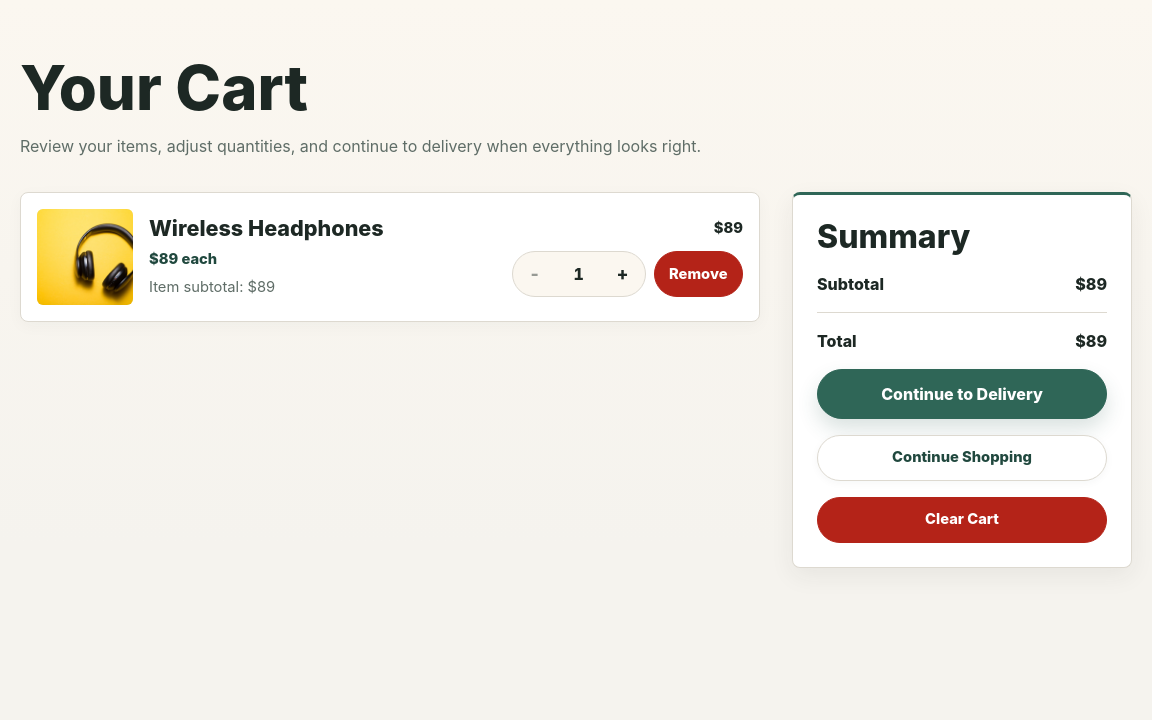
CartPageContent › renders cart items, updates quantity, and removes items
The width and height of the screenshot is (1152, 720).
Expected: the heading "Your Cart" is shown, [20,50,308,125]
Expected: the text "$89" in the row of "Wireless Headphones" is shown, [714,217,743,239]
Click the button named "increase quantity" at [623, 274], box [601,252,645,296]
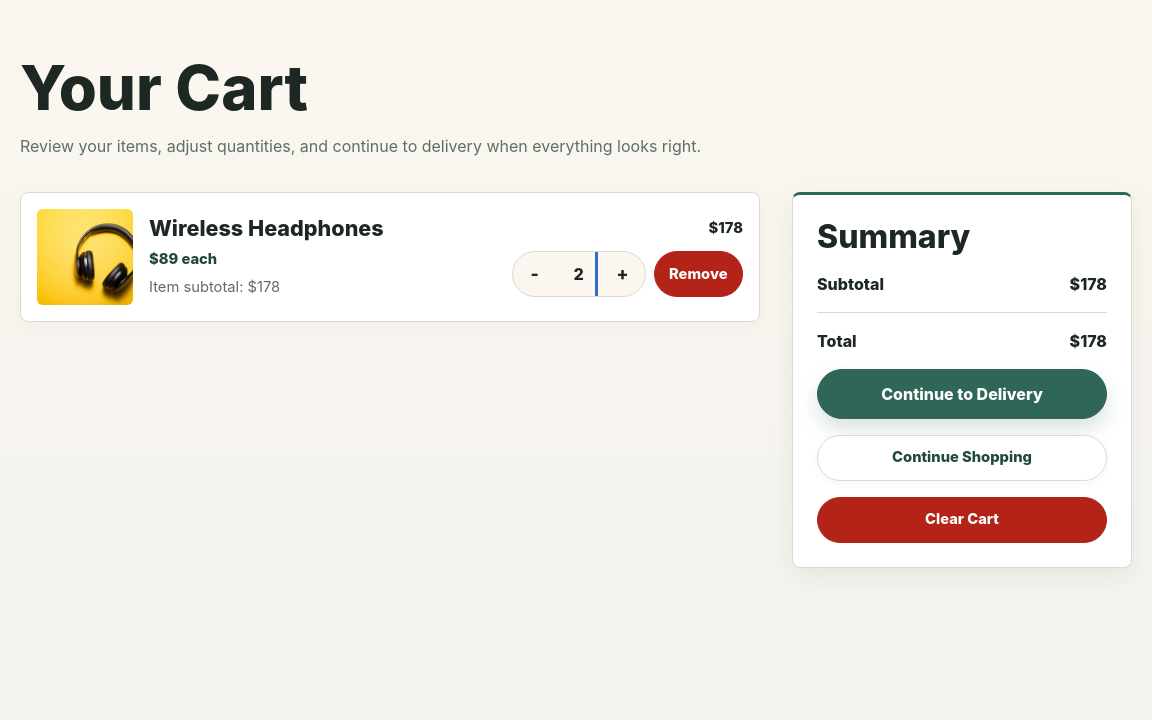
Now the text "2" is shown, box [574,264,584,284]
Now the text "$178" in the row of "Wireless Headphones" is shown, box [709,217,743,239]
Click the button named "decrease quantity" at [535, 274], box [513,252,557,296]
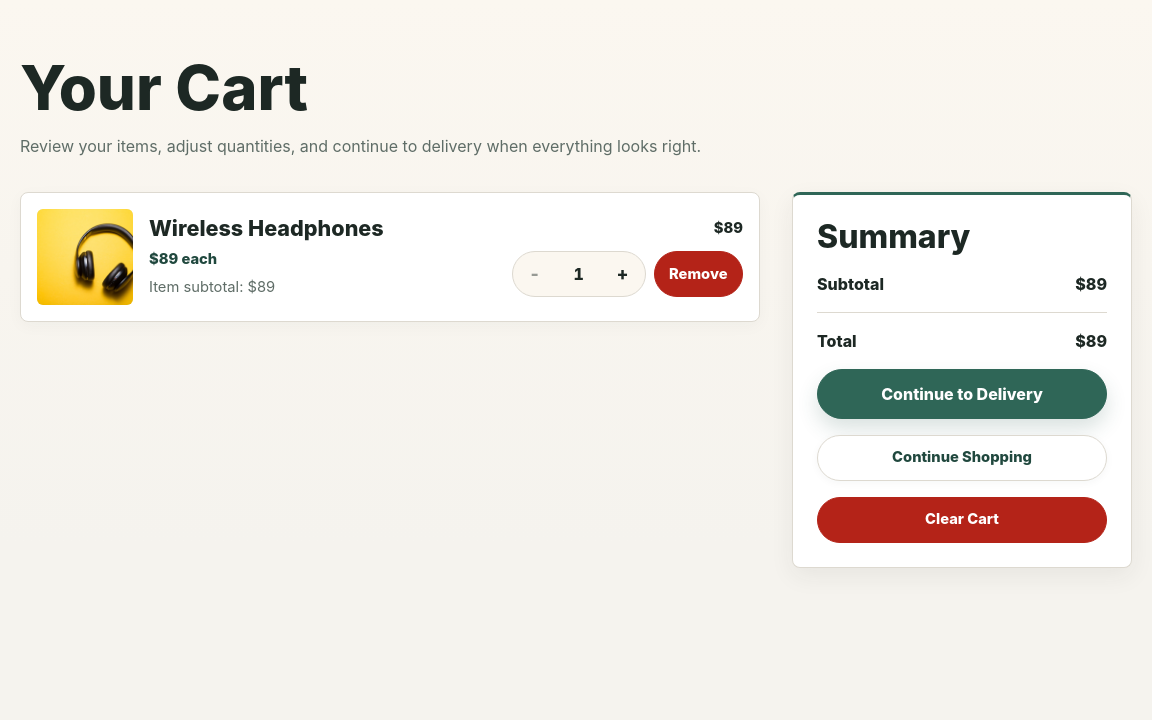
Now the text "1" is shown, box [574,264,584,284]
Click the button "Remove" at [698, 274], box [654,252,743,298]
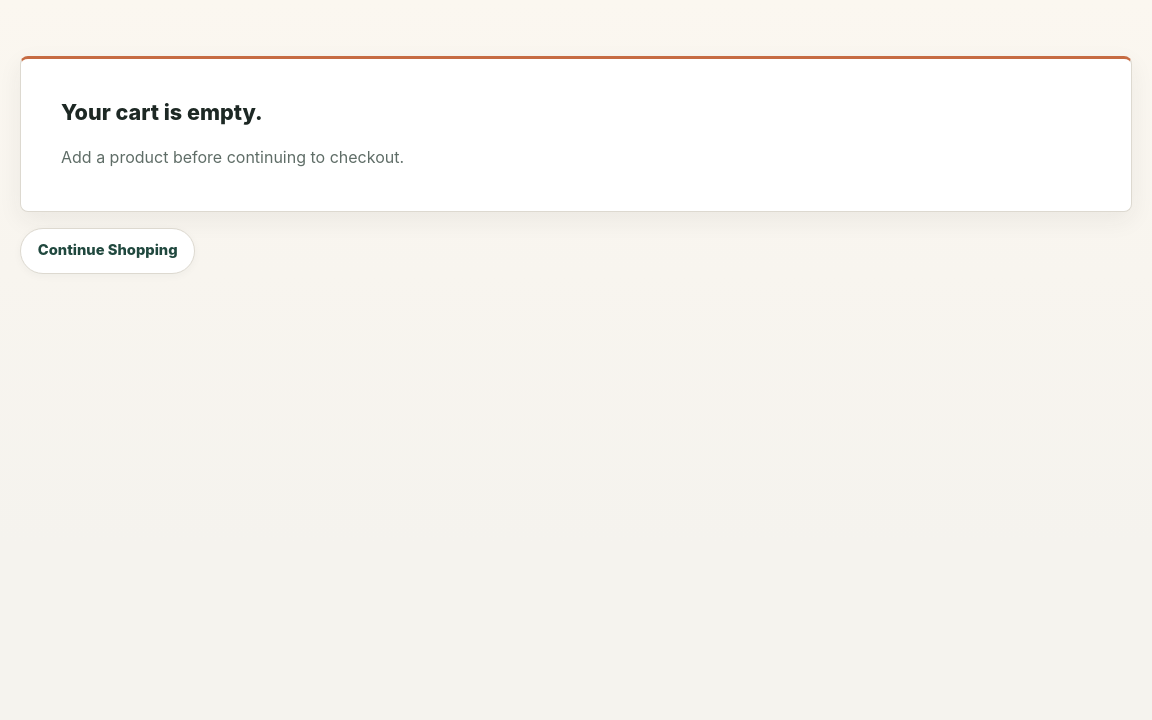
Now the heading "Your cart is empty." is shown, box [61,99,263,127]
